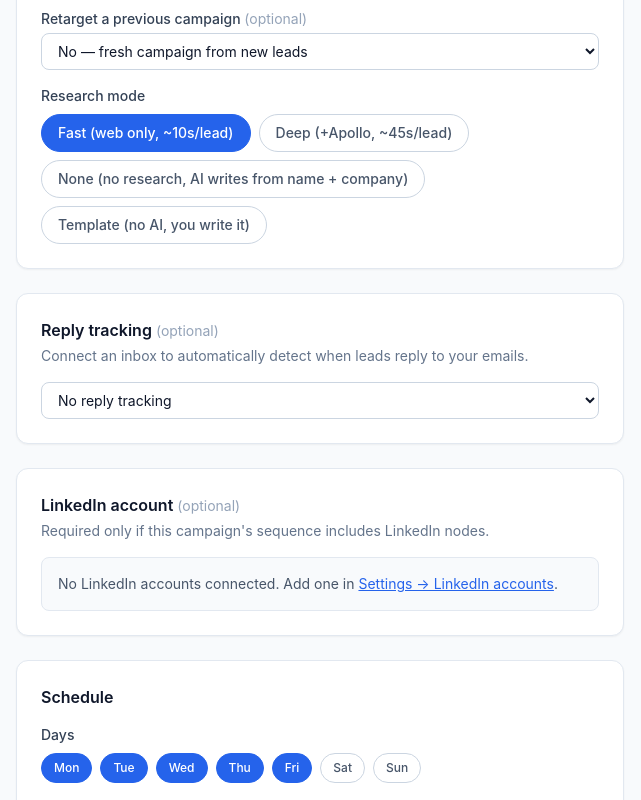
Test: Step 1 — campaign details › shows inbox status badge when an account is selected
(page scrolled)
Select "Work Gmail (me@gmail.com)" in the dropdown named "reply tracking inbox" at [320, 400], box [41, 382, 599, 419]
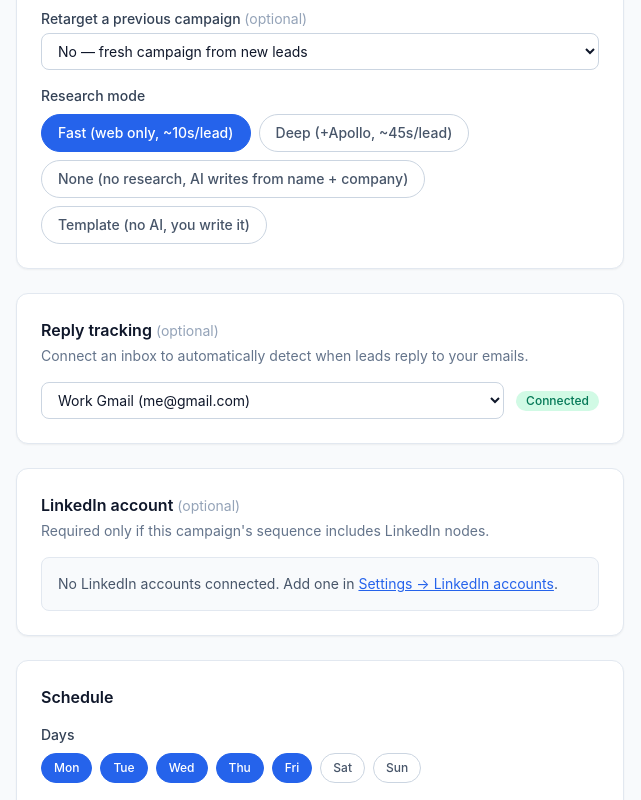
Check: the text with test id "inbox-status" reads "Connected", box [526, 392, 589, 408]
